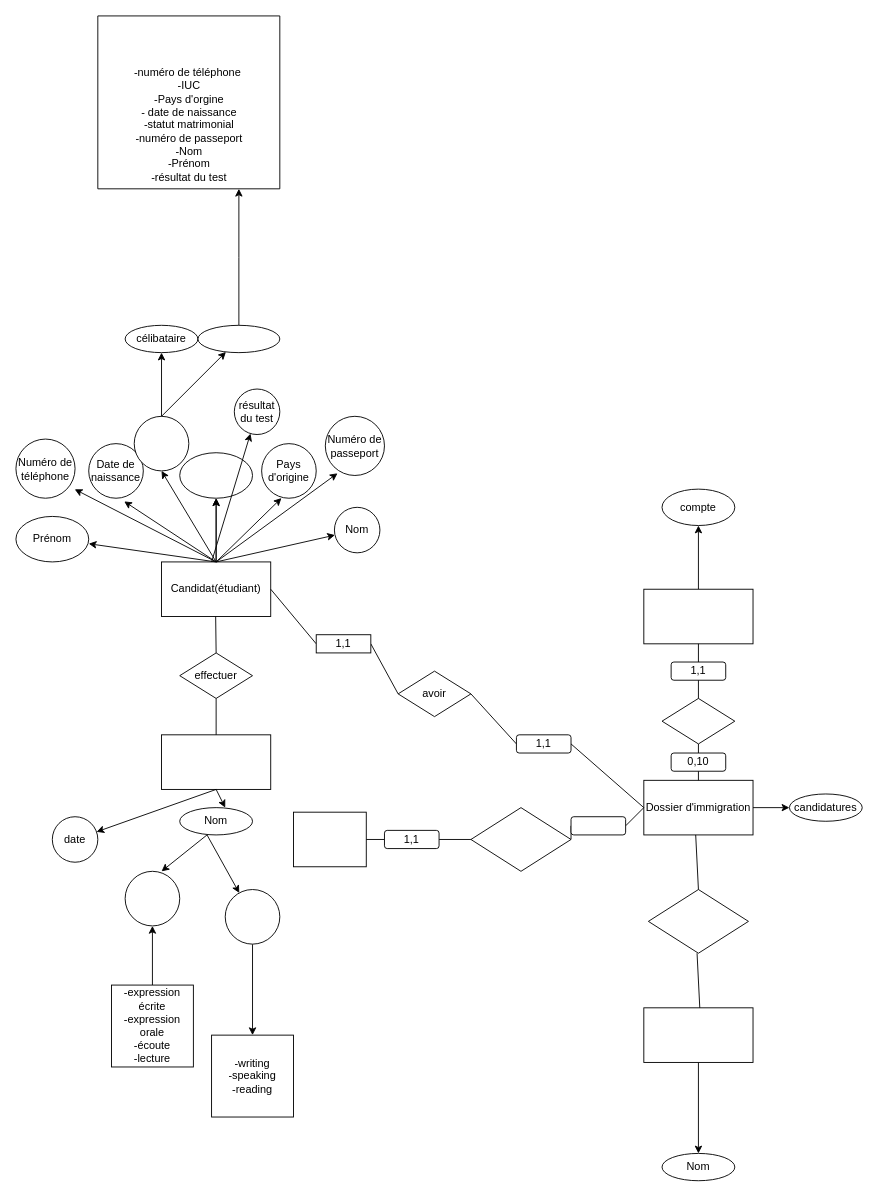
Some shapes in this 878 by 1197 pixel diagram are drawn without their labels. Here are the shapes that lost their labels. From the top down, the box of each, then its label:
(197, 324, 280, 353): en relation
(133, 415, 189, 471): statut matrimonial
(179, 452, 253, 498): IUC
(643, 588, 753, 644): Agent
(661, 698, 735, 744): suivre
(161, 734, 271, 789): Test
(293, 811, 366, 867): consultant
(470, 807, 571, 871): ajouter commentaires
(570, 816, 626, 835): 0,N
(124, 870, 180, 926): langue anglaise
(224, 889, 280, 944): langue française
(647, 889, 748, 953): constitue
(643, 1007, 753, 1062): programme d'immigration
